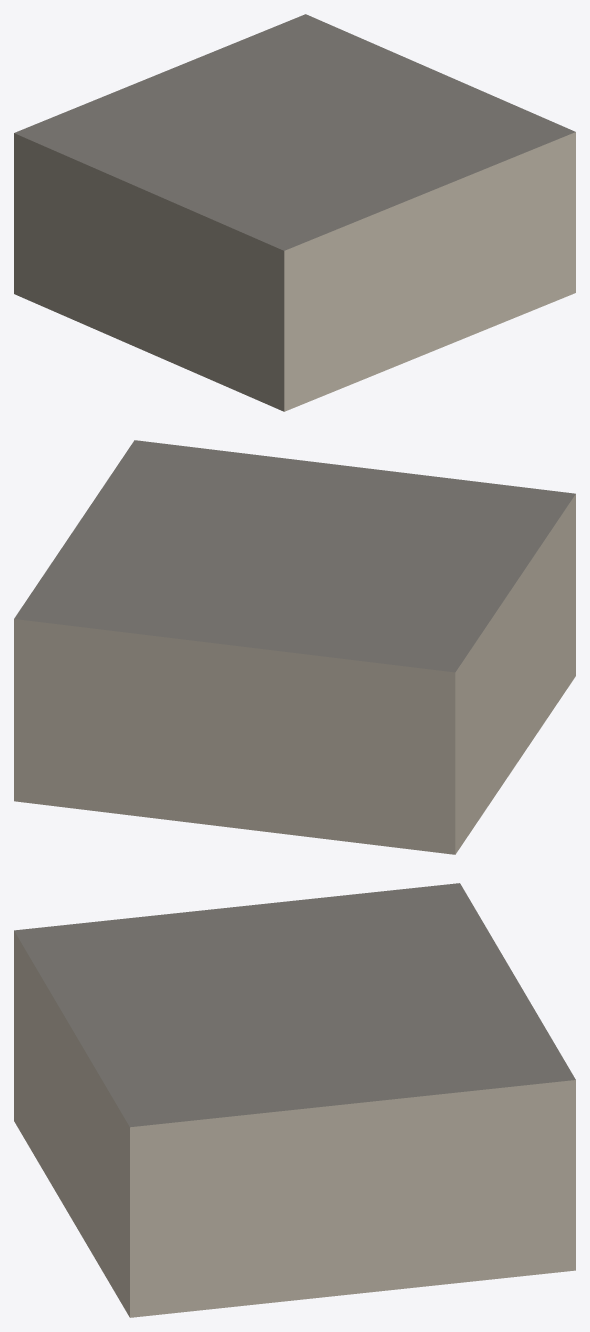
The picture shows the model from 3 angles, top to bottom: view 1: azimuth 30°, elevation 25°; view 2: azimuth 150°, elevation 25°; view 3: azimuth 270°, elevation 25°; orthographic projection. The views are drawn at different scales.
Parts seen in each view (by area): view 1: HP-w350277187; view 2: HP-w350277187; view 3: HP-w350277187.
Boxes of the visible parts, left/top/right/bottom form: HP-w350277187: left=14, top=14, right=575, bottom=411; HP-w350277187: left=14, top=440, right=575, bottom=854; HP-w350277187: left=14, top=883, right=575, bottom=1317.
Bounding box in the file's own units: 49.45 × 18 × 48.1.
